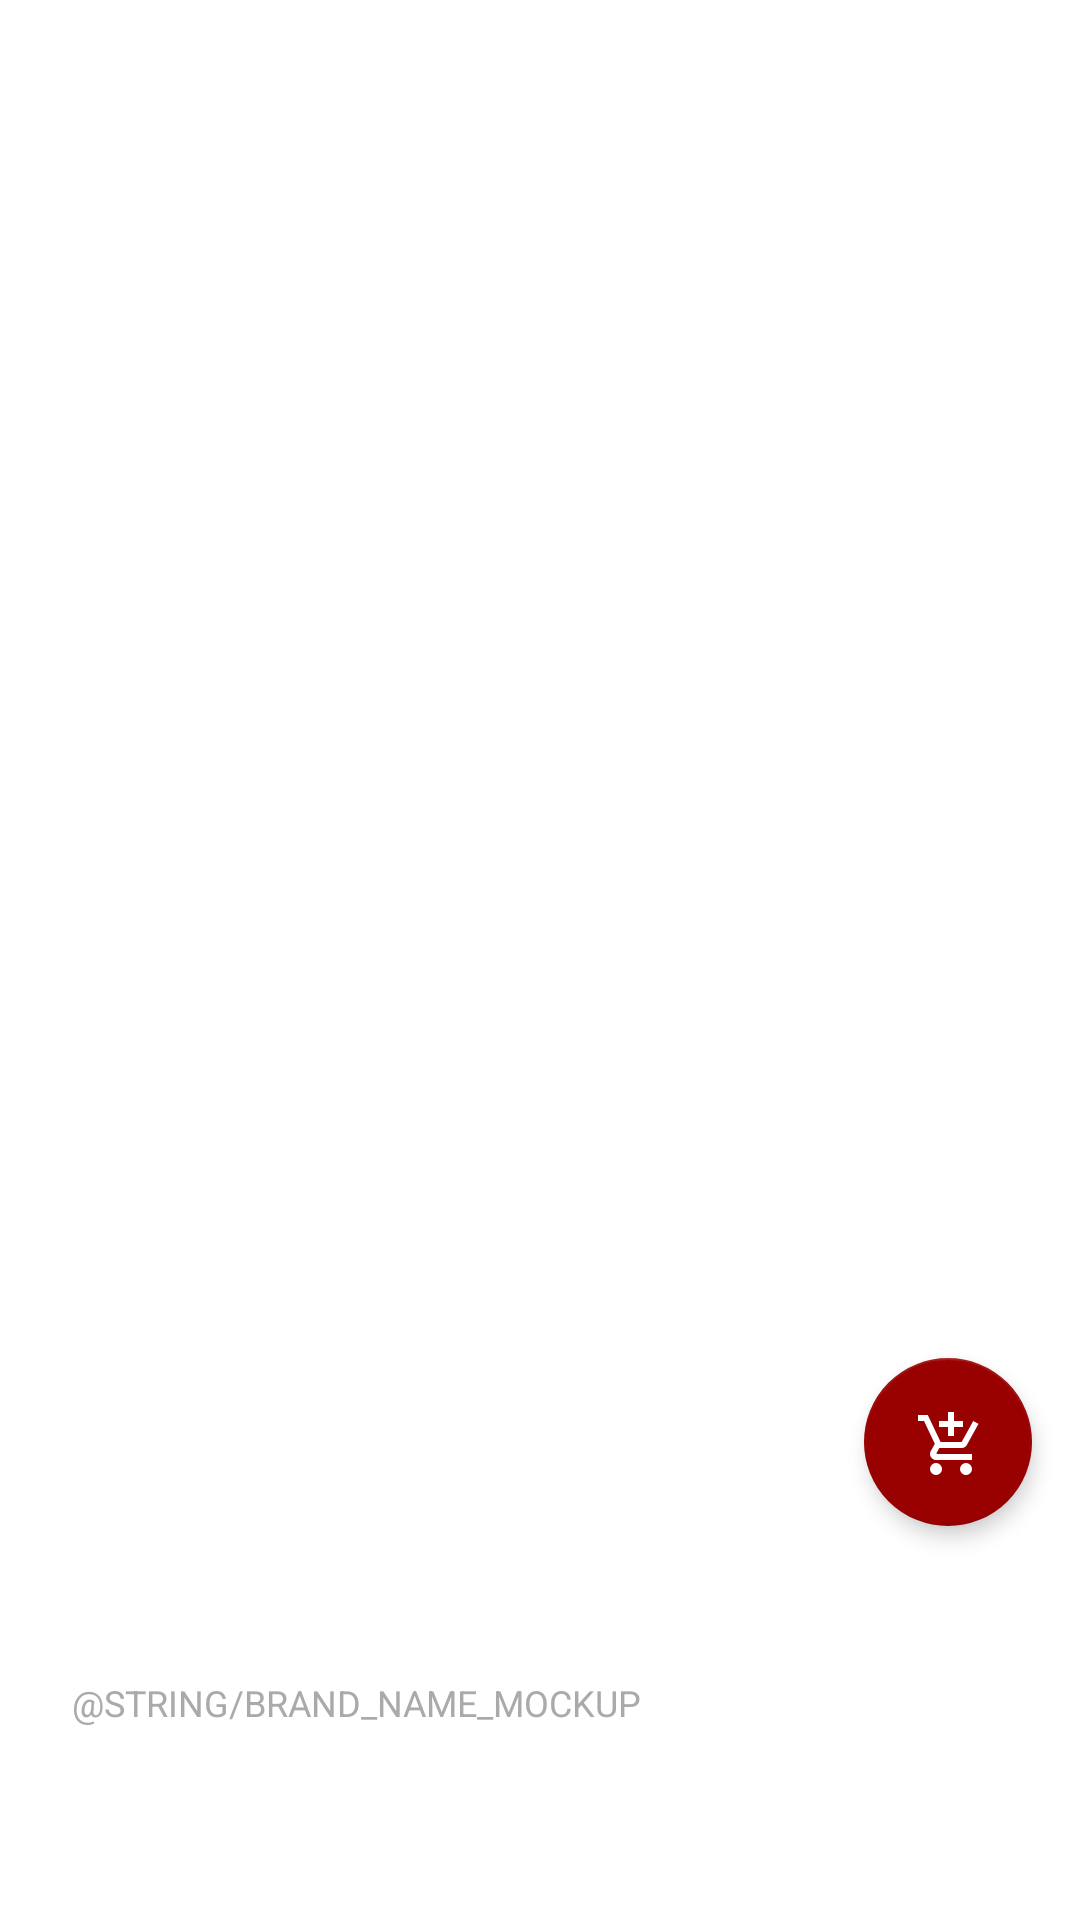

Named icons in this screenshot (1080px x 1920px) and their centers, point (x, y):
add to cart: point (948, 1442)
